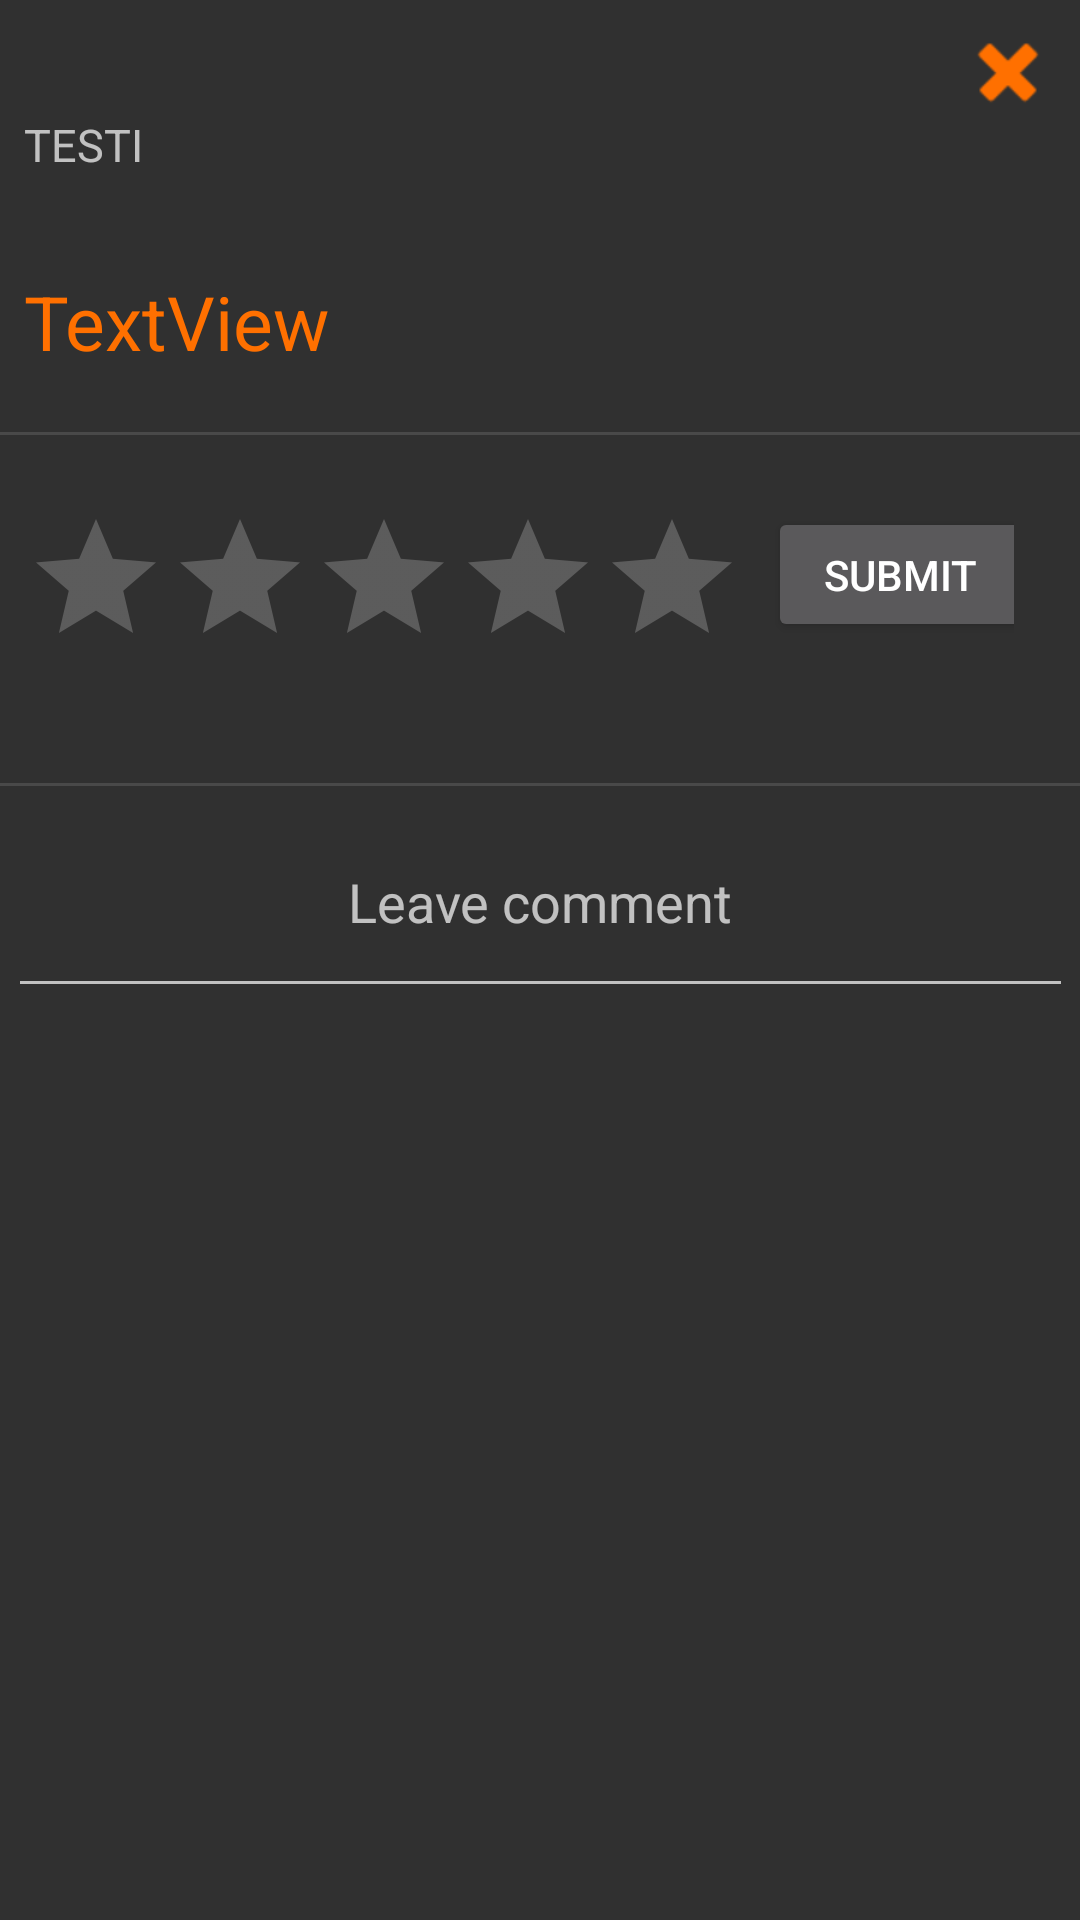

Icons on this 1080*1920 Android screen, each with its box as rect(x1, y1, x2, y2):
delete: rect(978, 43, 1038, 102)
